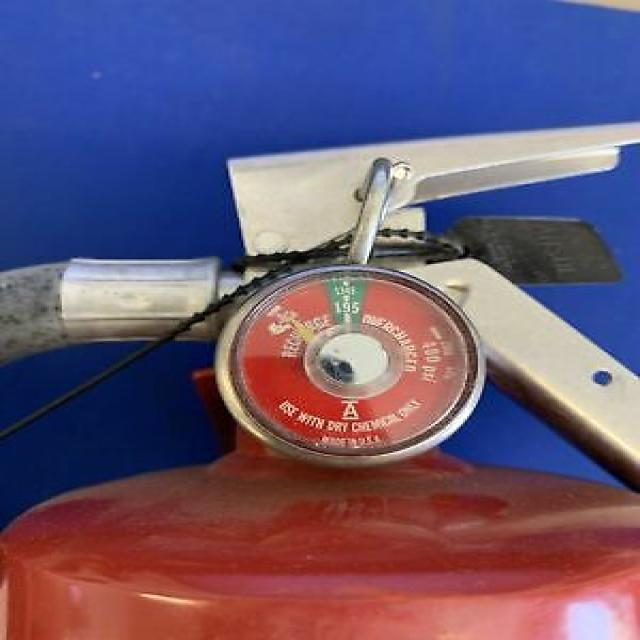pressure gauge: (216, 265, 484, 465)
